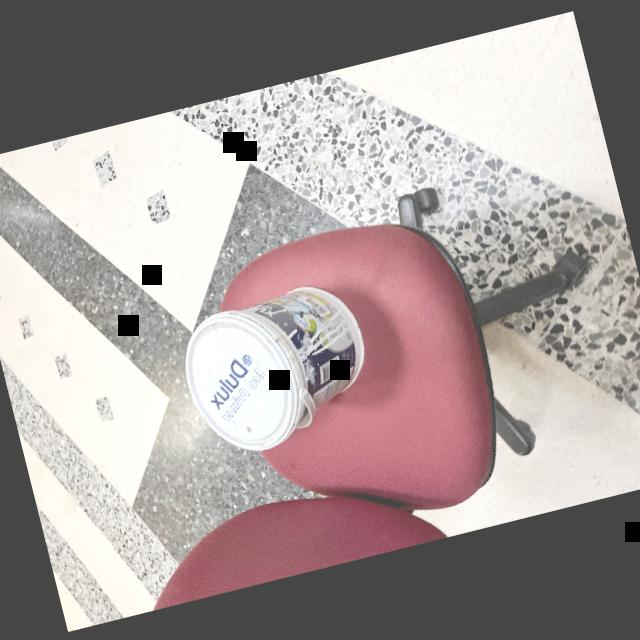paint_bucket: (160, 264, 390, 472)
